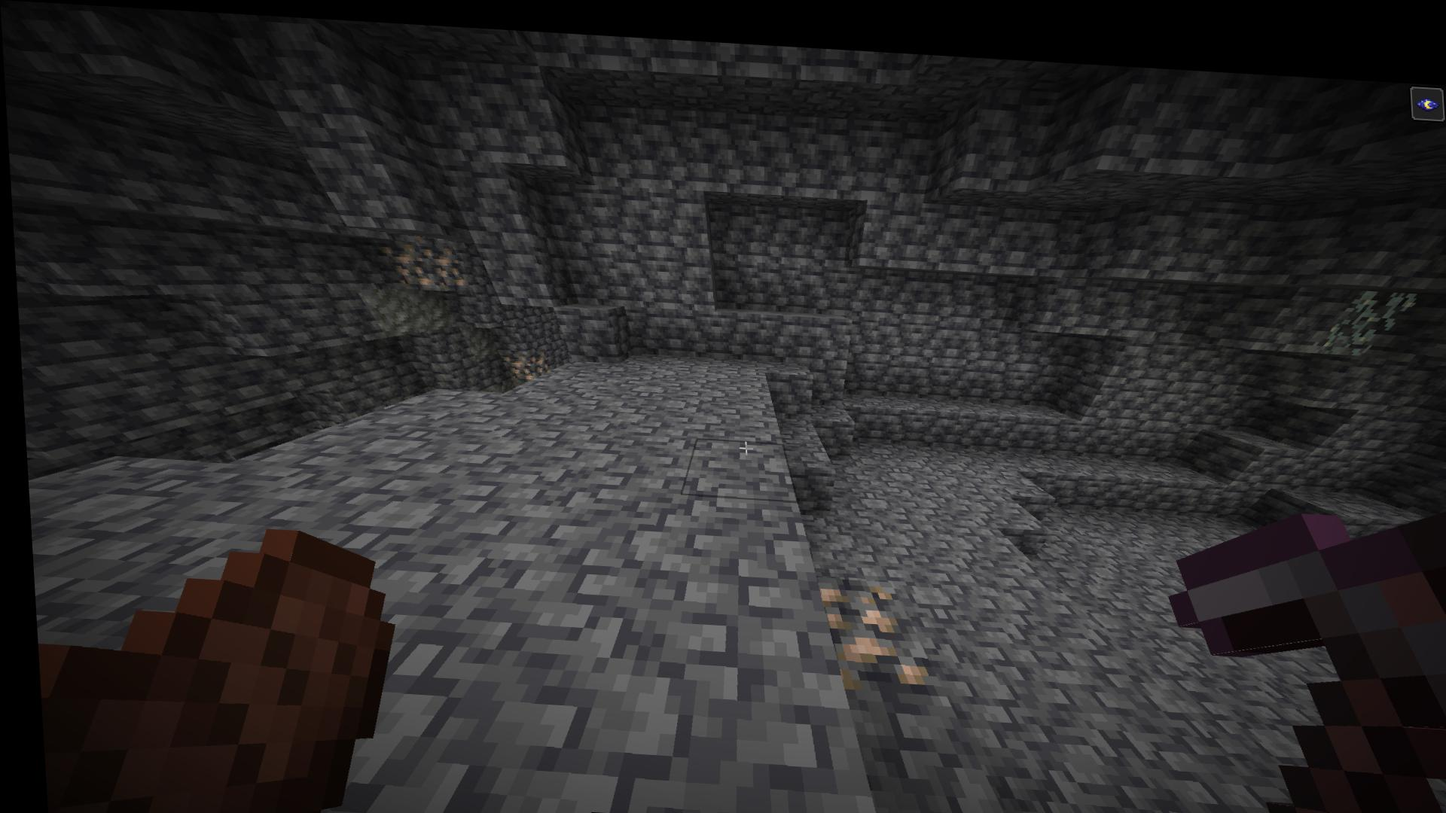iron ore: (818, 568, 925, 680), (376, 232, 424, 286), (420, 237, 463, 288), (497, 346, 530, 377), (526, 342, 546, 373)
